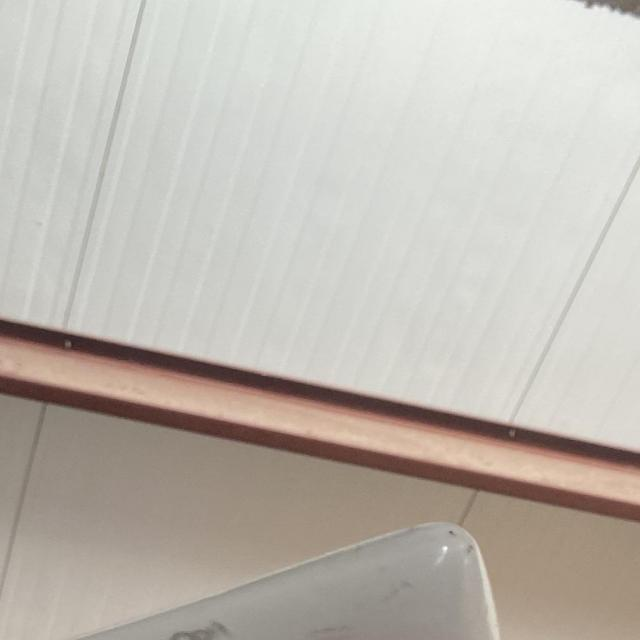Paint-off: (161, 619, 229, 640)
